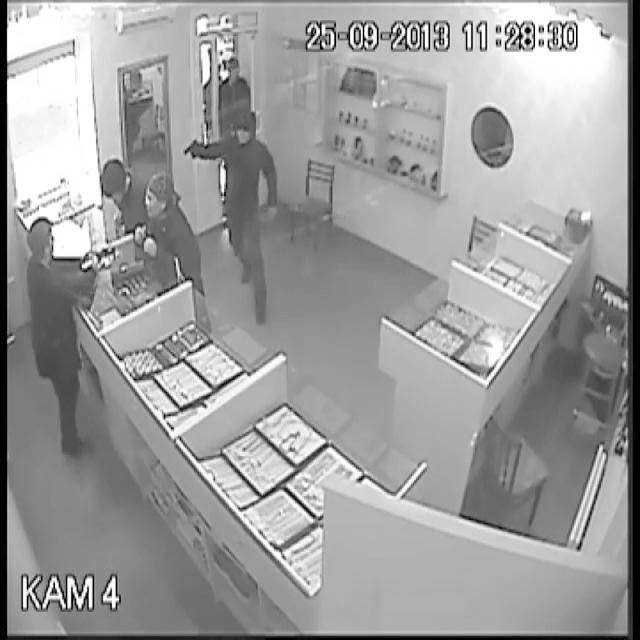gun: (183, 130, 206, 164)
person: (21, 210, 93, 462), (99, 149, 145, 233), (210, 51, 262, 117), (142, 157, 180, 224)
person with a gun: (184, 108, 296, 330)
